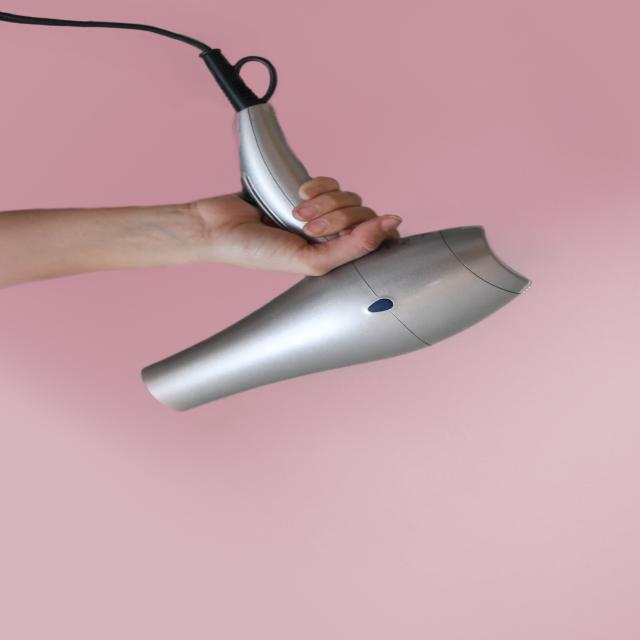dryer: (137, 49, 535, 416)
